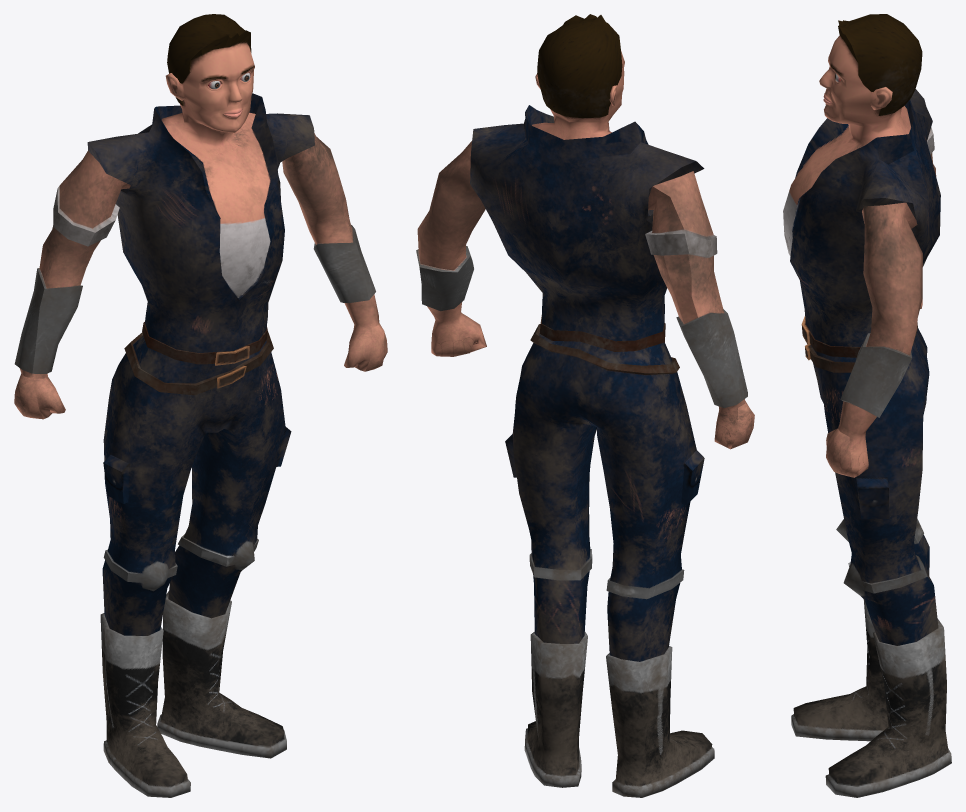
File: Anim_abrir_puerta_ok_jugador.0036.obj
3 renders of one model, left to right at view 1: azimuth 30°, elevation 25°; view 2: azimuth 150°, elevation 25°; view 3: azimuth 270°, elevation 25°, orthographic. The views are drawn at different scales.
Visible parts, largest first — view 1: polySurface1; view 2: polySurface1; view 3: polySurface1.
Part boxes in pixels (x1,y1,x2,y2): polySurface1: (14, 14, 387, 797); polySurface1: (416, 14, 754, 797); polySurface1: (783, 14, 951, 797).
Size of the model in its own units: 4.69 by 9.64 by 1.97.
